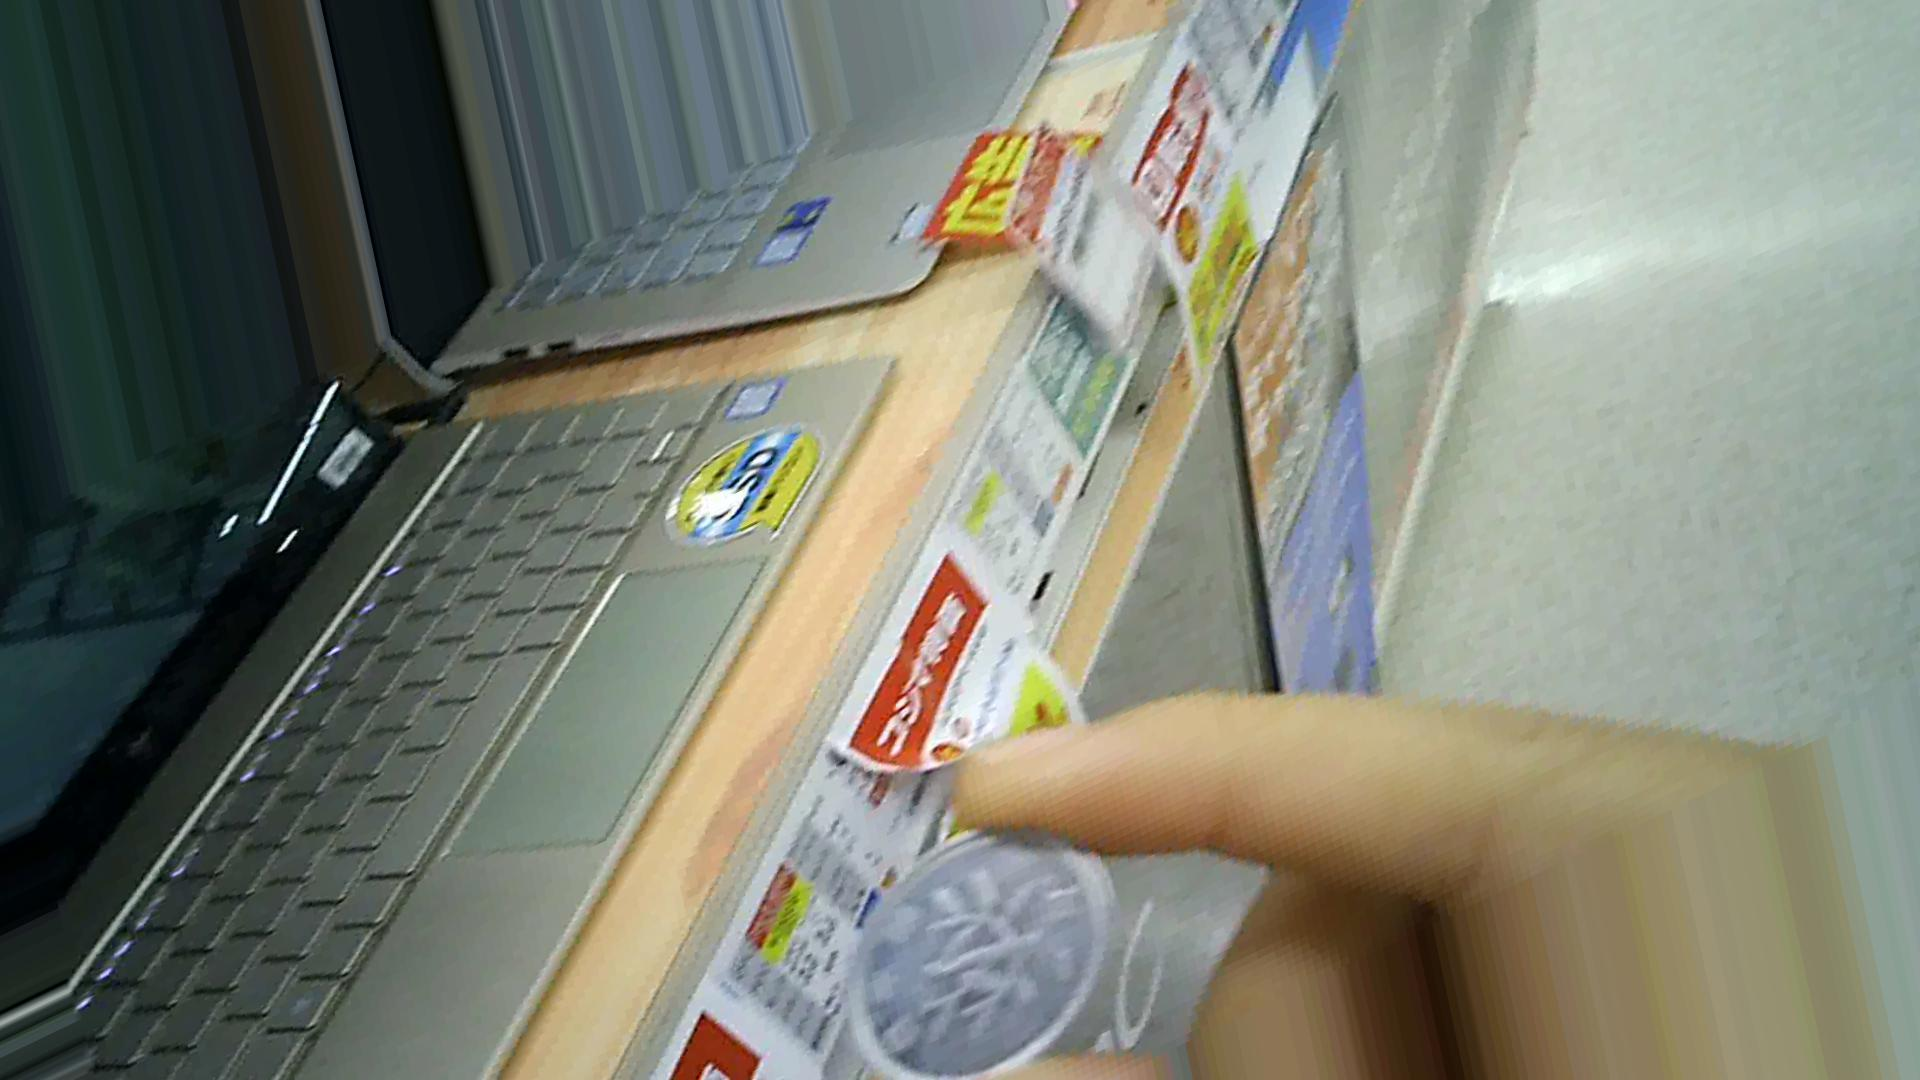1 Yen: (831, 818, 1143, 1071)
